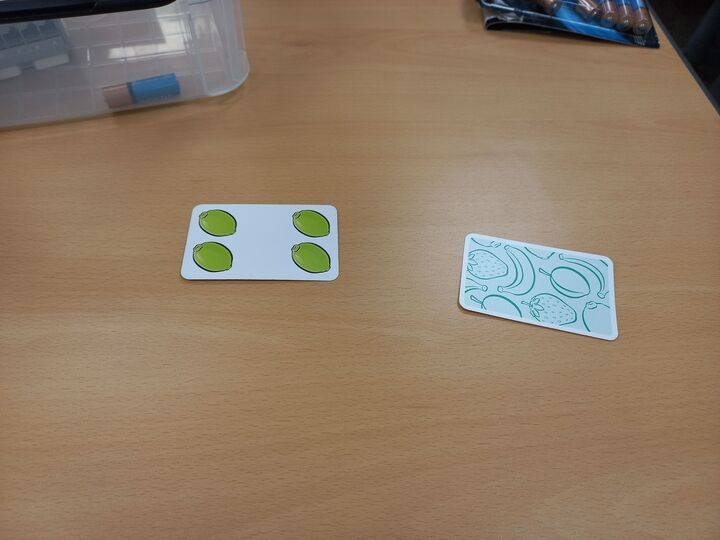lime4: (180, 201, 342, 283)
